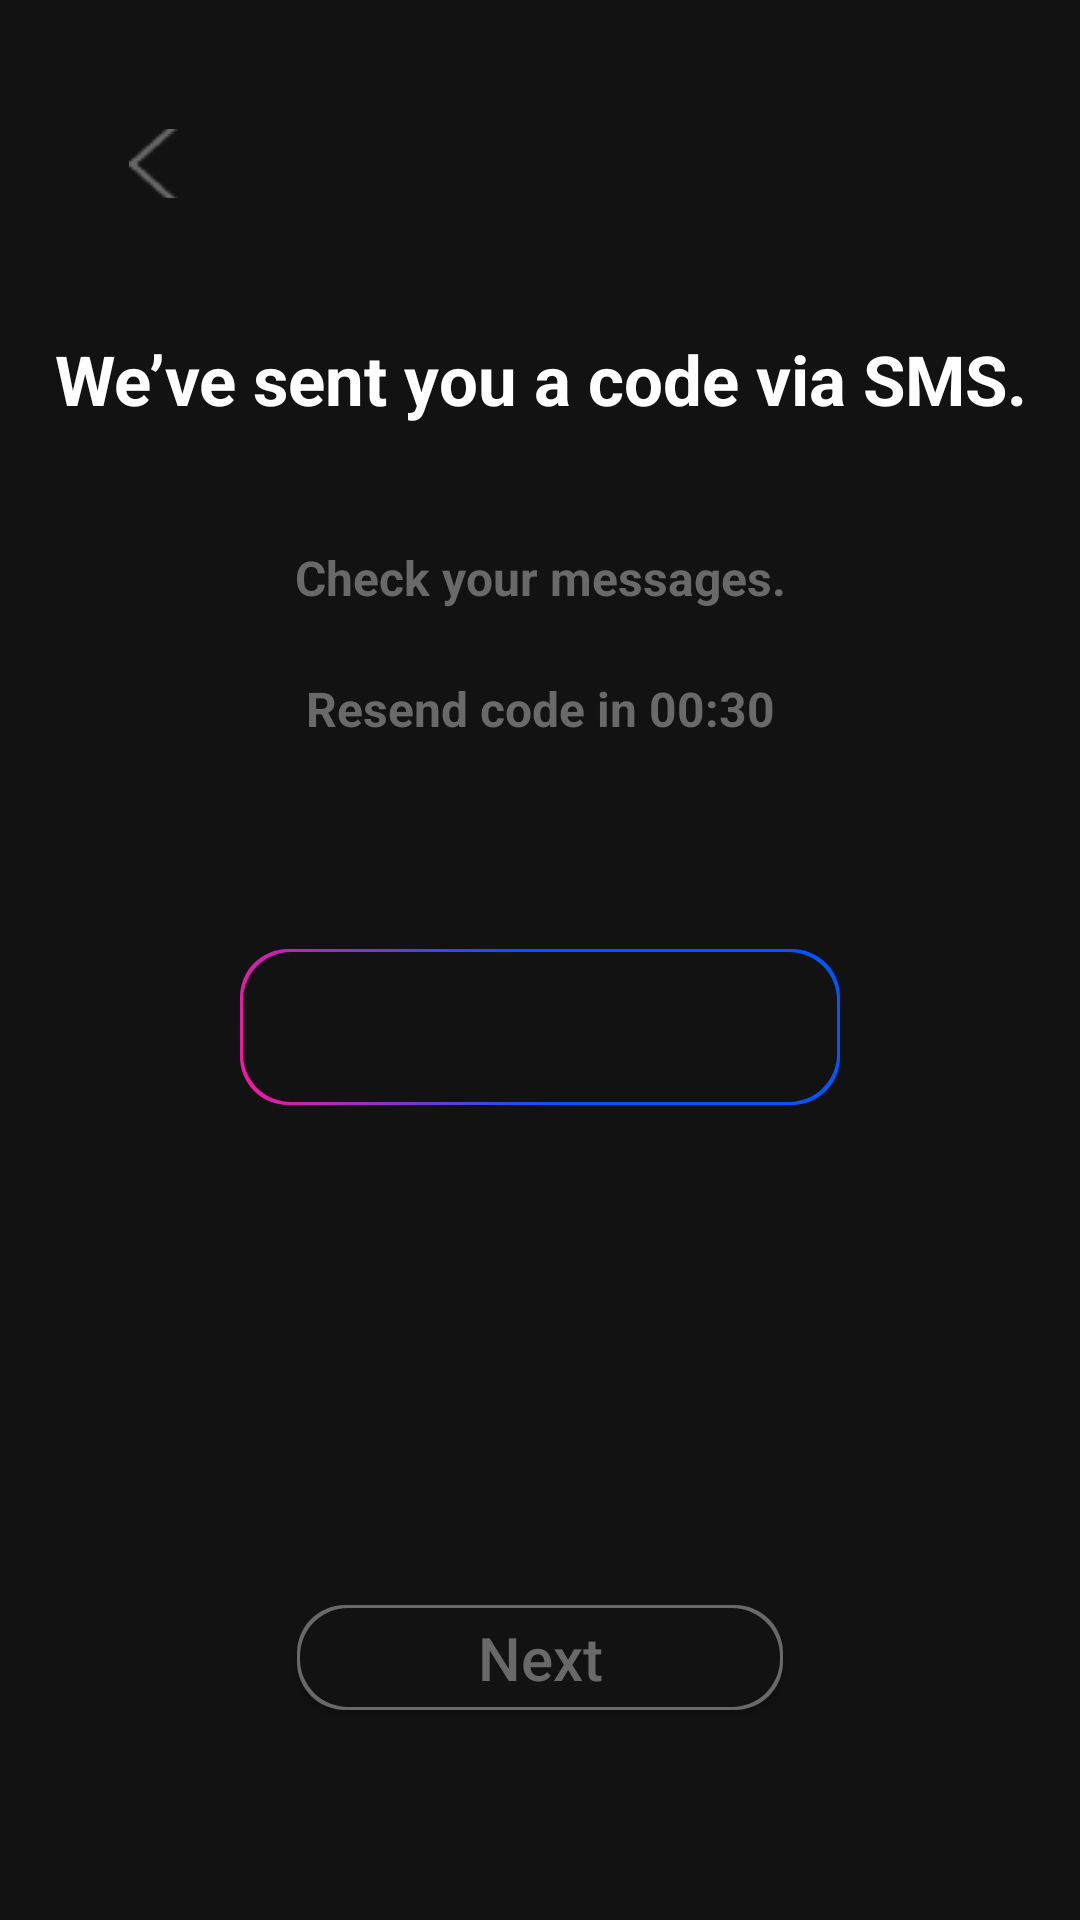

Icons on this 1080px x 1920px Android screen, each with its box as [x1,y1,x2,y2]:
back: [129,129,177,198]
